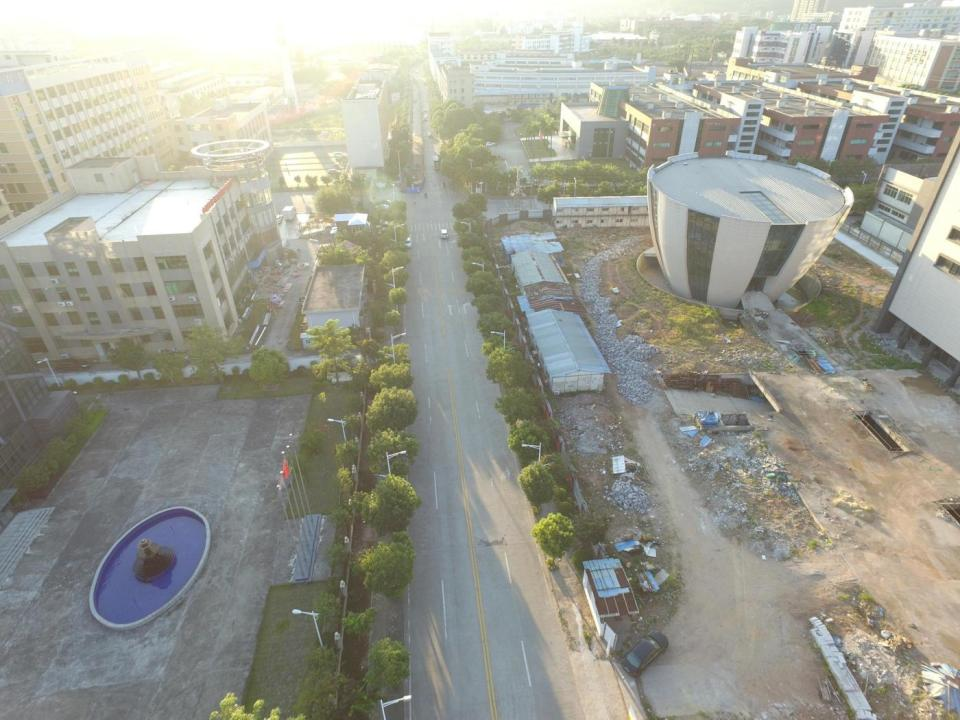bus: (422, 108, 428, 116)
car: (618, 628, 670, 680), (439, 228, 449, 240), (403, 236, 412, 249), (333, 152, 348, 159), (328, 168, 342, 174), (272, 216, 282, 224), (423, 116, 428, 121), (428, 132, 432, 138), (423, 114, 428, 117)
truck: (281, 205, 298, 222), (432, 154, 441, 171)
